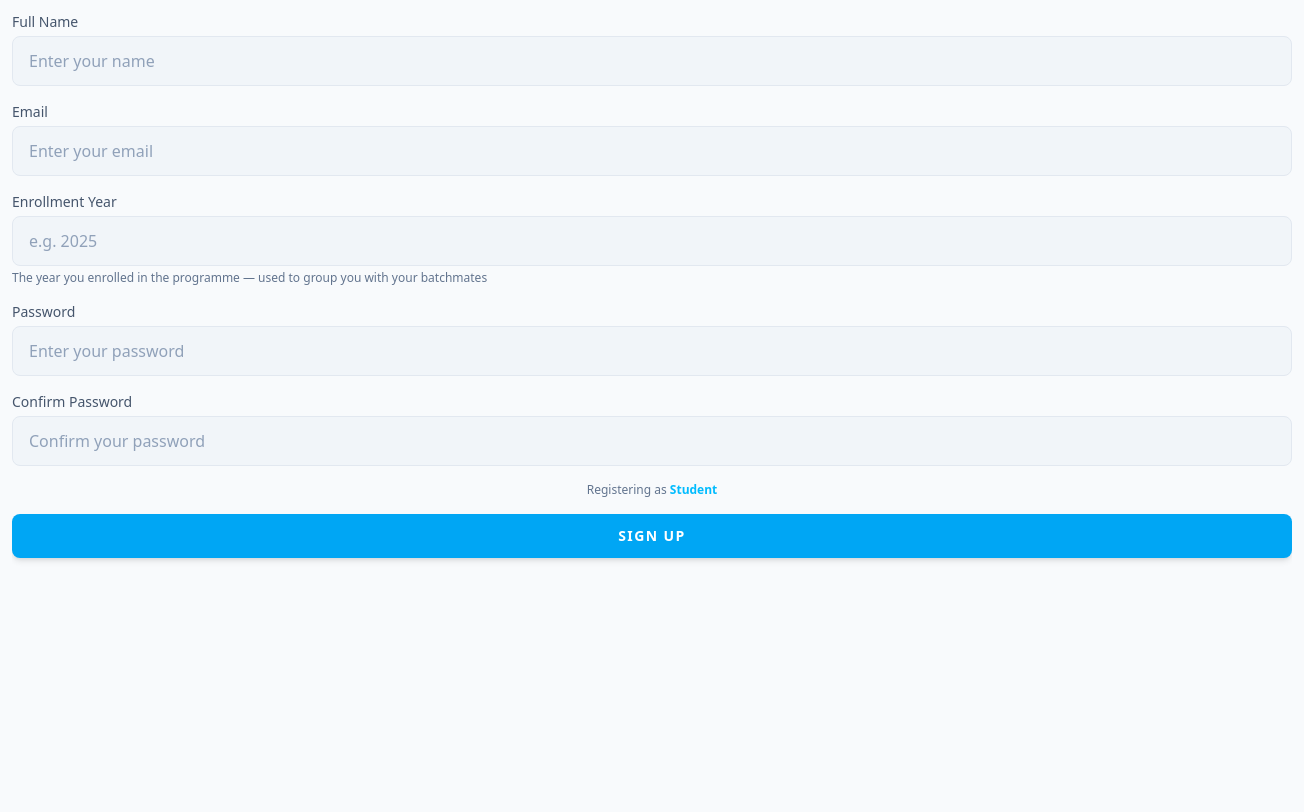
Test: Register Component › shows "Password is required" error
This screenshot has width=1304, height=812.
Type "Test" into the field with placeholder "Enter your name" at (652, 61), box [12,36,1292,86]
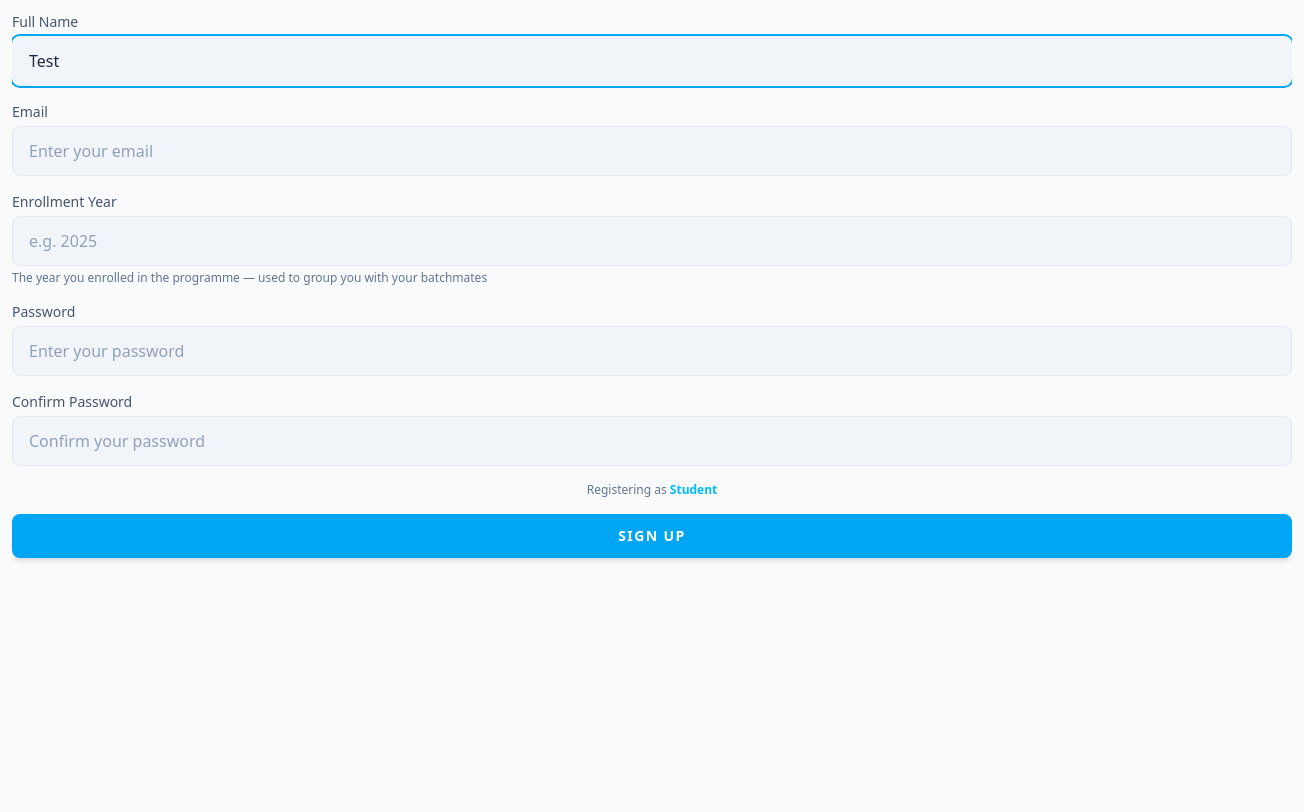
Type "test@test.com" into the field with placeholder "Enter your email" at (652, 151), box [12,126,1292,176]
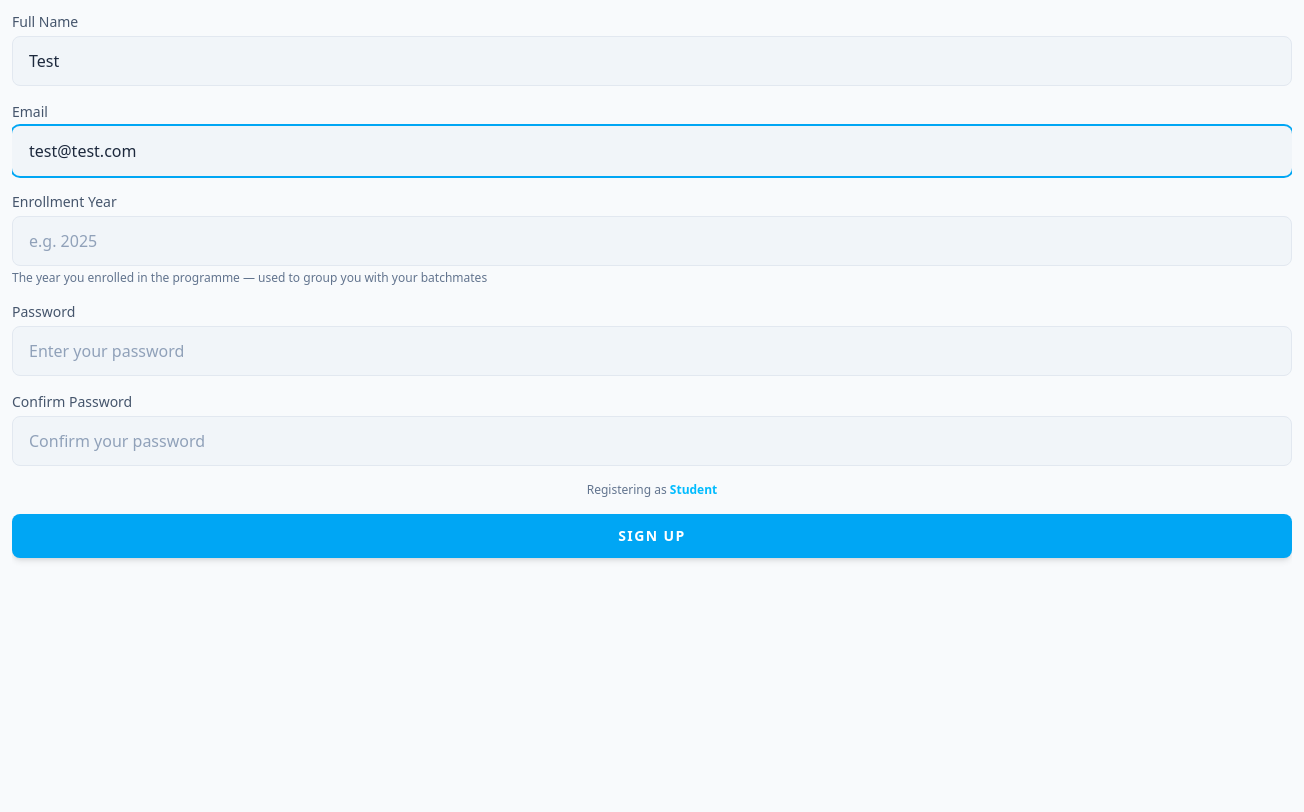
Click the button "Sign Up" at (652, 536), box [12,514,1292,558]
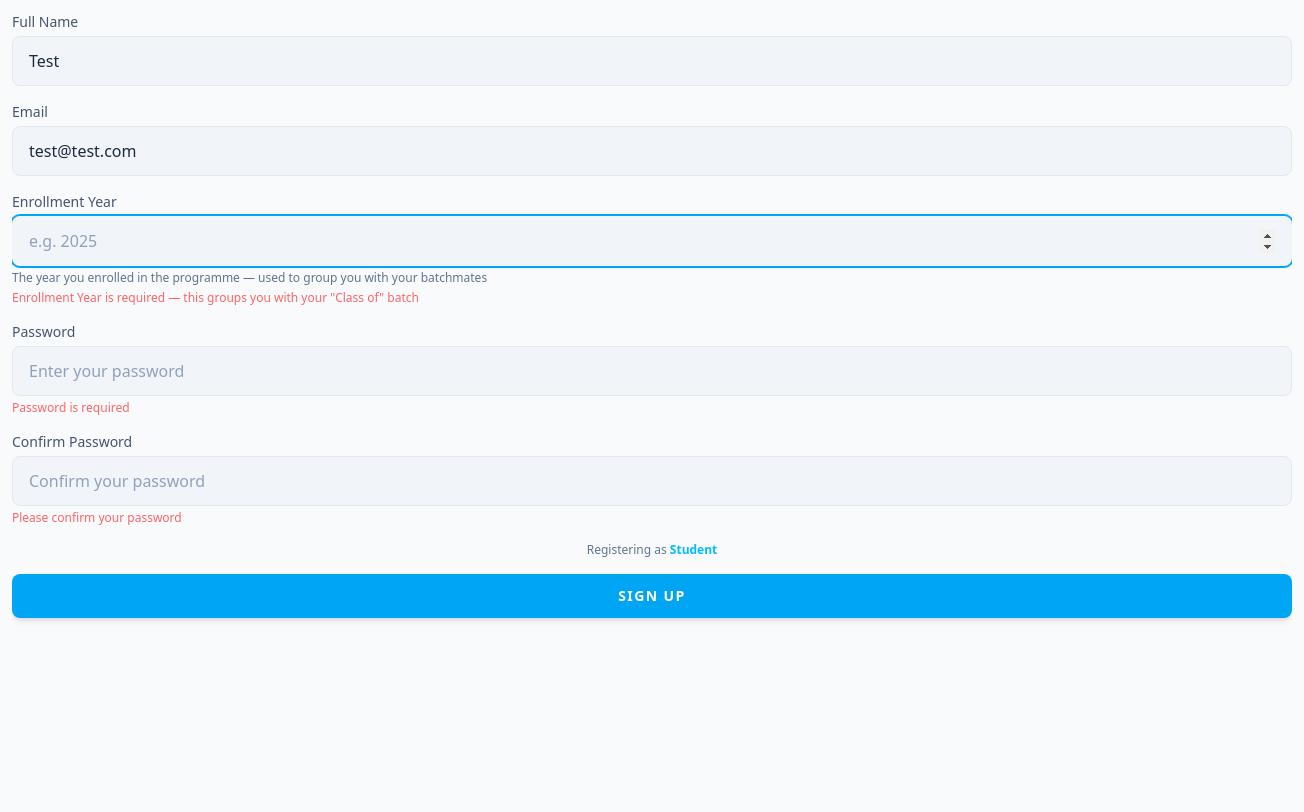
Expected: the text "Password is required" is shown, [12,399,130,416]
